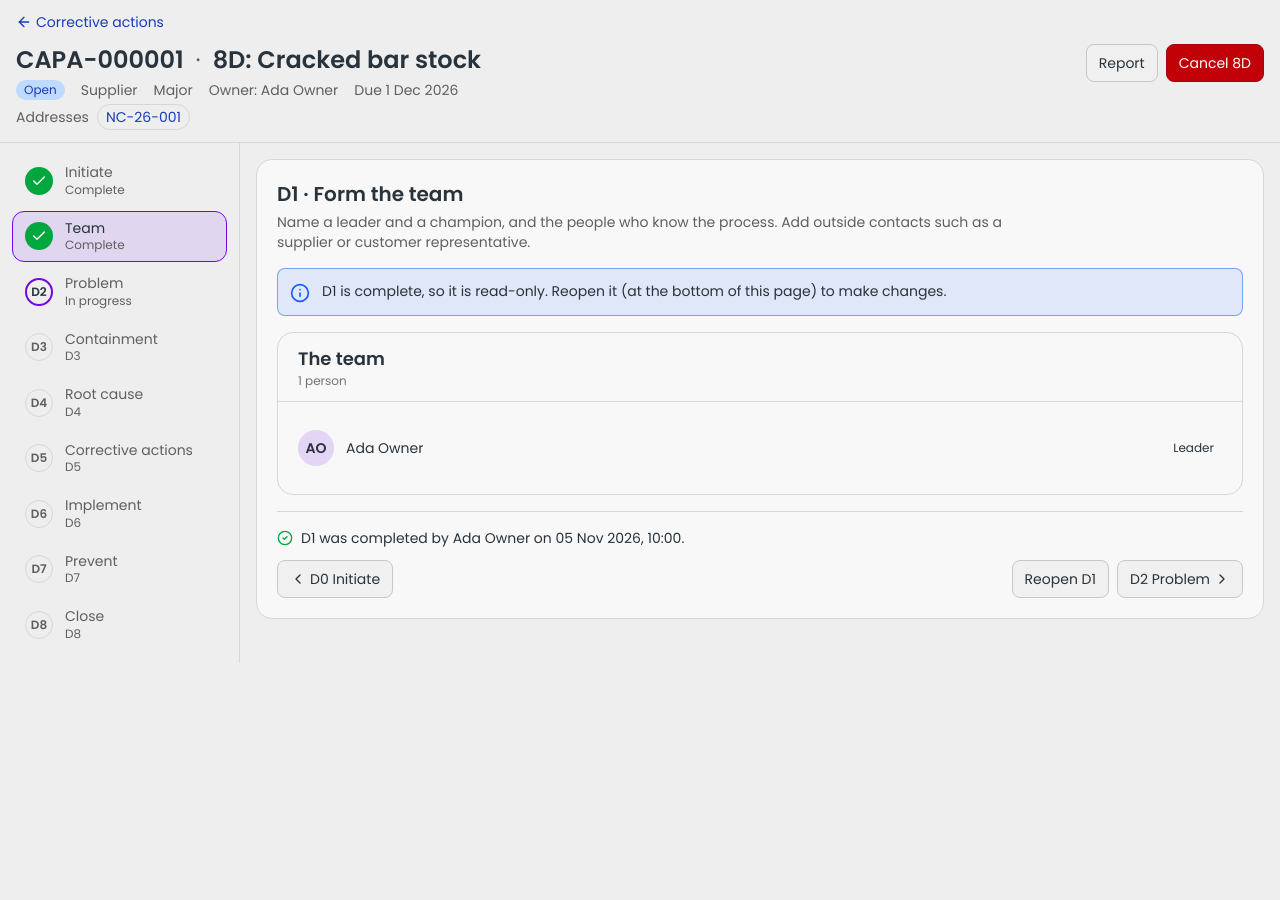
8D step page › a complete step says who completed it and reopens, with a reason
The width and height of the screenshot is (1280, 900).
Later steps or results of the test are not shown.
Expected: the text "D1 was completed by Ada Owner on 05 Nov 2026, 10:00." is shown, top-left (277, 528), bottom-right (684, 548)
Step 1. Click the button "Reopen D1" → click(1060, 579), box top-left (1012, 560), bottom-right (1109, 598)
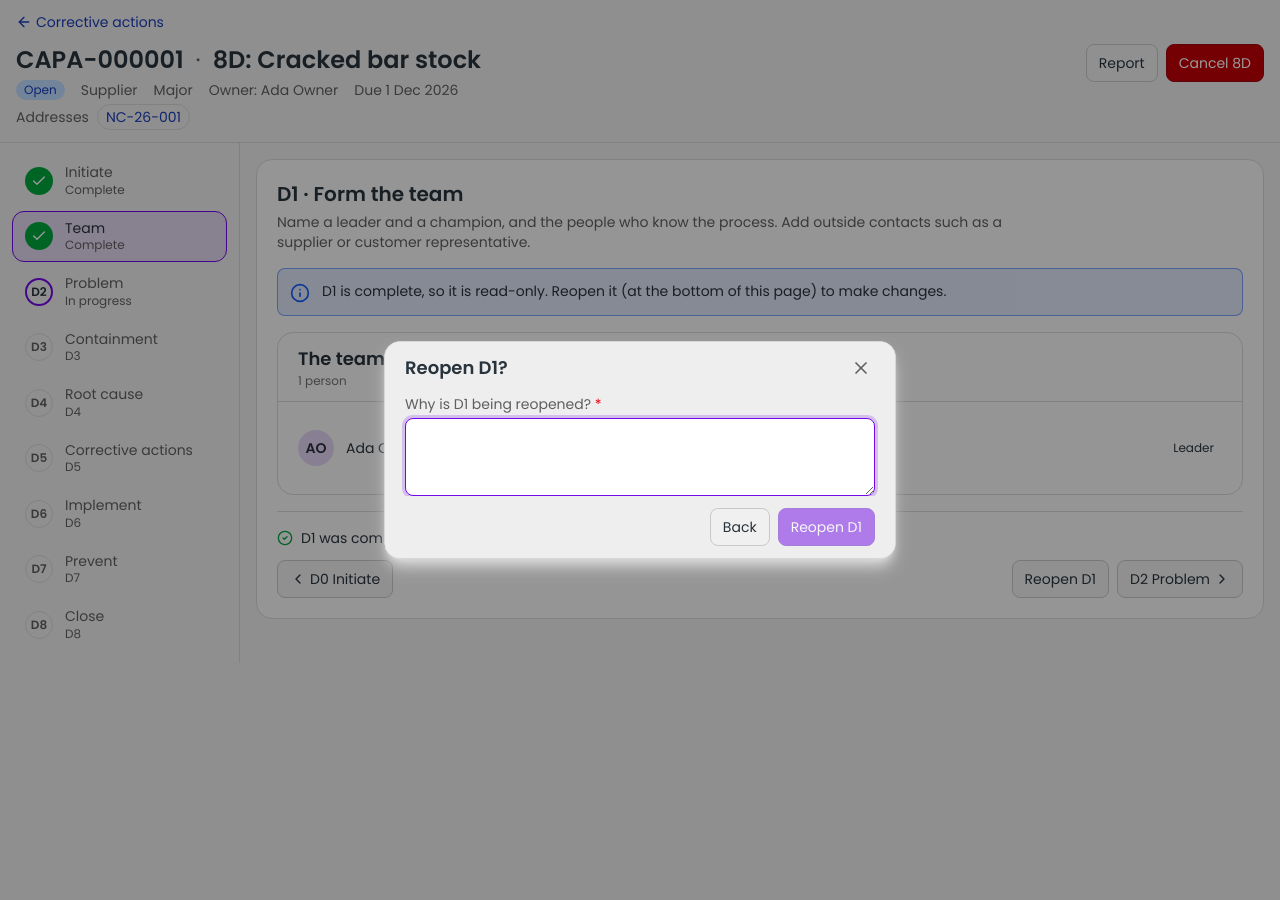
Result: the button "Reopen D1" is disabled at top-left (778, 508), bottom-right (875, 546)
